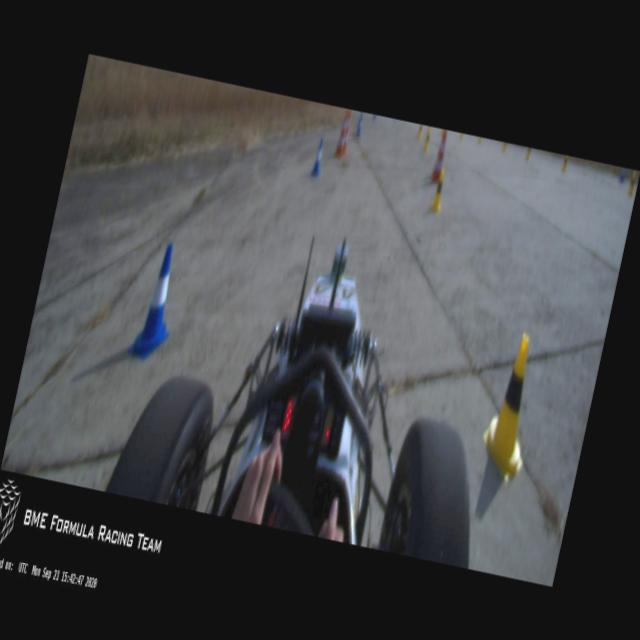blue_cone: (126, 238, 186, 364), (309, 137, 326, 178), (354, 118, 363, 140), (618, 167, 626, 184)
large_orange_cone: (430, 129, 450, 185), (333, 108, 352, 160), (339, 110, 354, 156)
yellow_cone: (474, 328, 548, 484), (428, 167, 448, 214), (626, 170, 638, 196), (421, 128, 431, 152), (560, 155, 569, 172), (524, 146, 532, 160), (416, 124, 424, 138)
